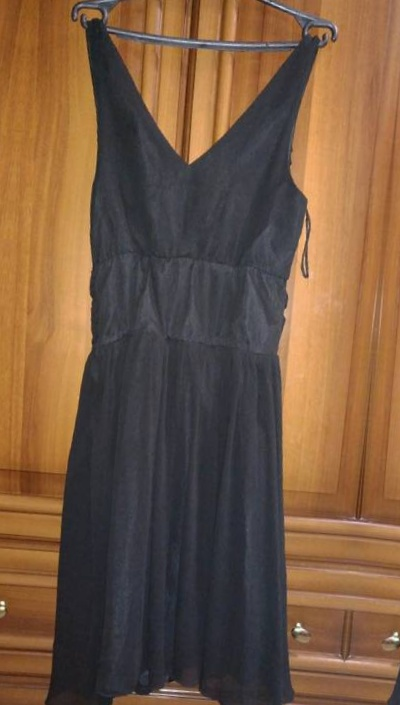Dress: (0, 0, 382, 705), (360, 25, 400, 705)
